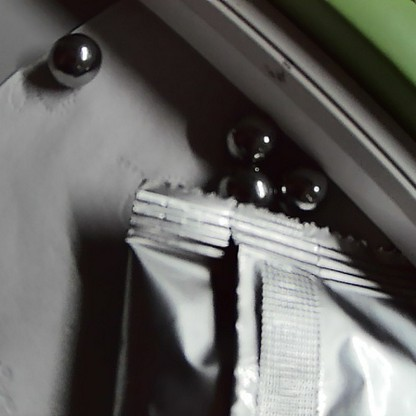ironball: (36, 31, 107, 87), (211, 160, 267, 222), (218, 101, 271, 160), (279, 157, 329, 214)
